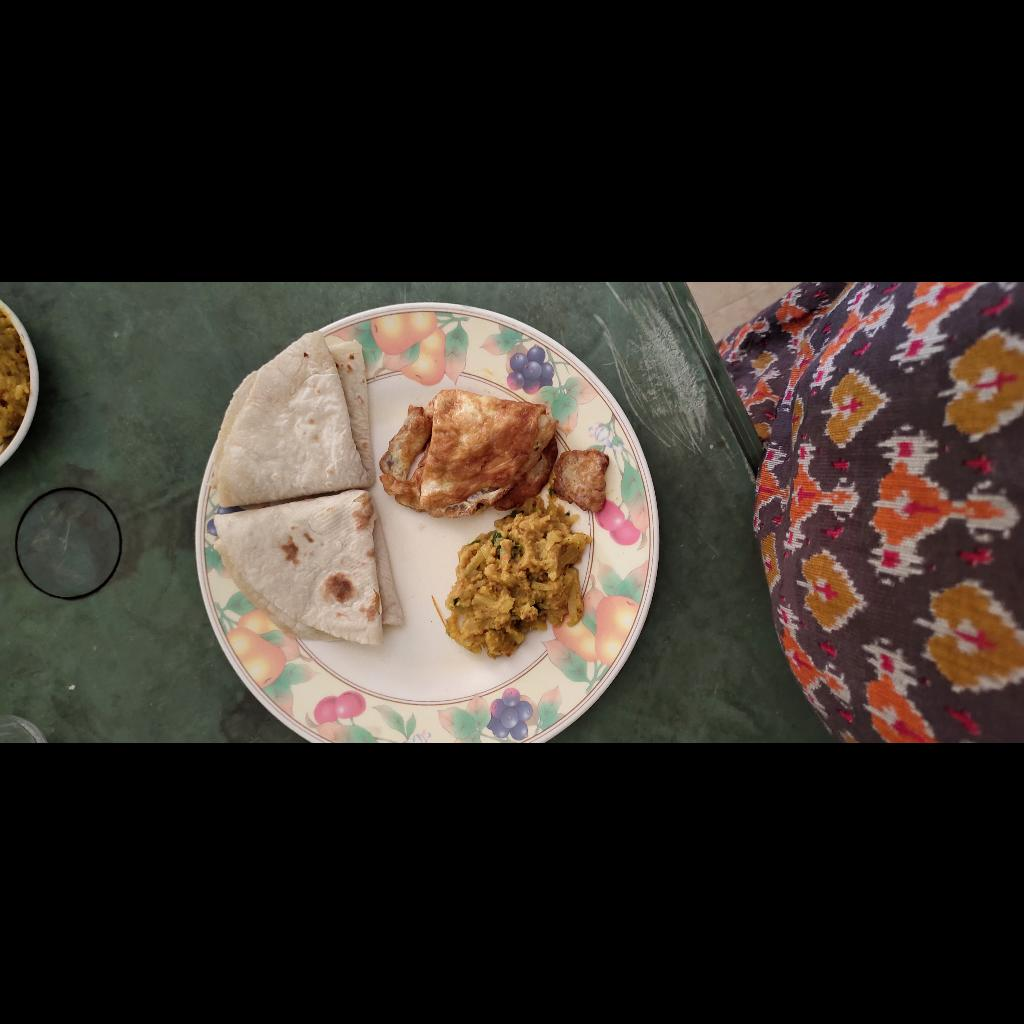cauliflower: (82, 727, 247, 875)
egg-poached: (228, 654, 359, 891)
ruti: (94, 490, 411, 686)
